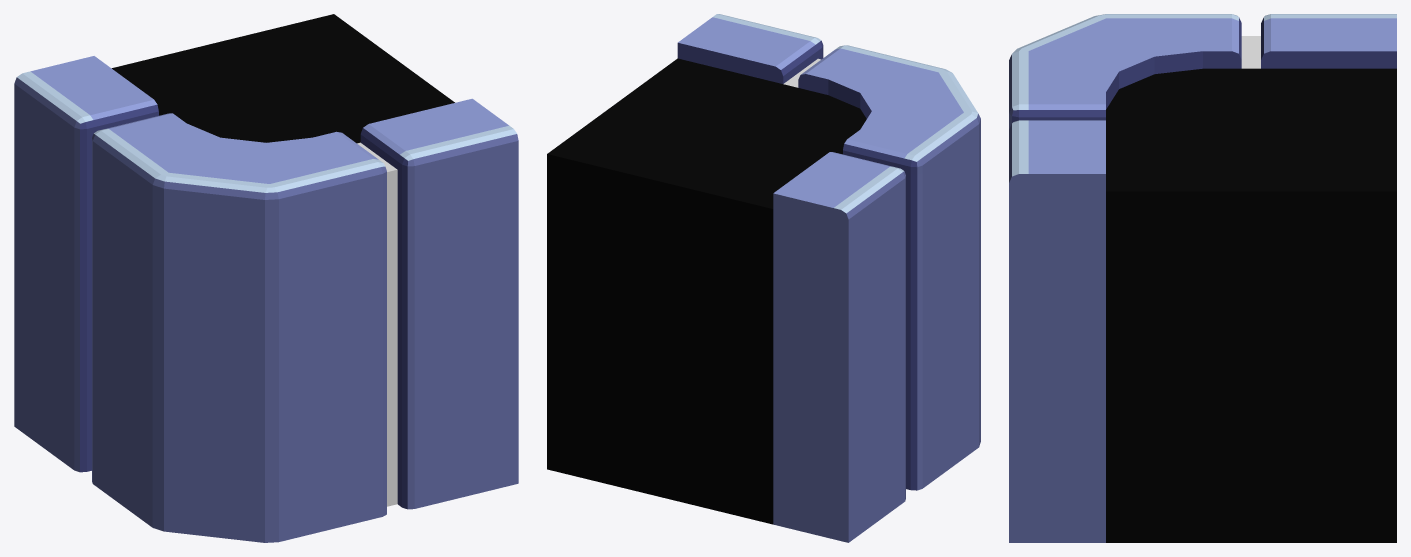
The model's file is UFO_Wall_Corner.fbx.
3 renders of one model, left to right at view 1: azimuth 30°, elevation 25°; view 2: azimuth 150°, elevation 25°; view 3: azimuth 270°, elevation 25°, orthographic. The views are drawn at different scales.
Visible parts, largest first — view 1: Cube.001; view 2: Cube.001; view 3: Cube.001.
Part boxes in pixels (<box>): Cube.001: <box>14,14,518,542</box>; Cube.001: <box>547,14,980,542</box>; Cube.001: <box>1009,14,1396,542</box>.
Bounding box in the file's own units: 2 × 2.1 × 2.
